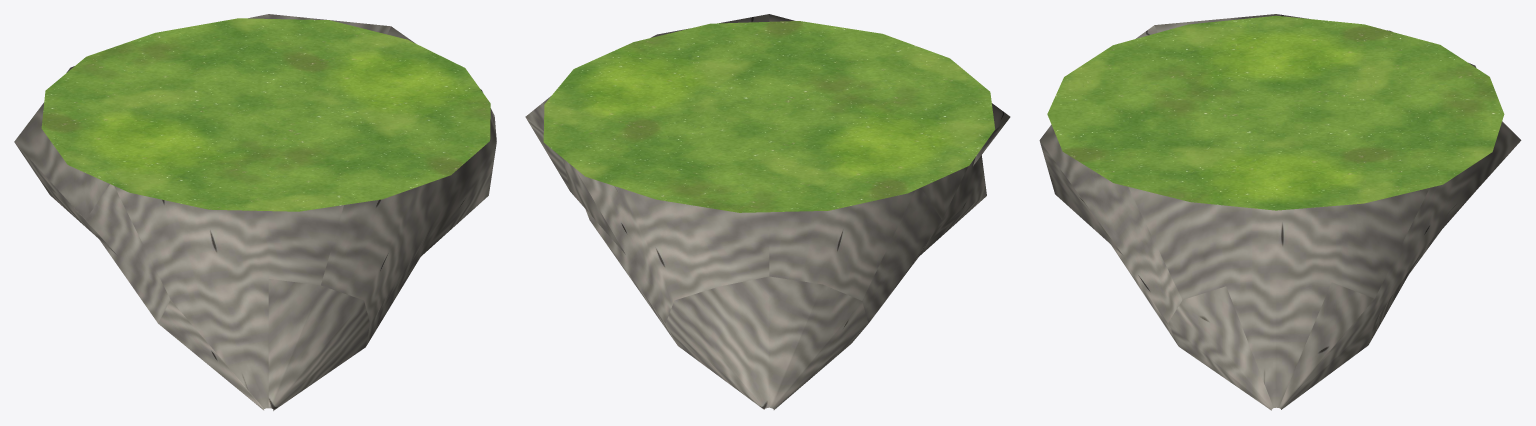
File: stepping_stone.glb
3 renders of one model, left to right at view 1: azimuth 30°, elevation 25°; view 2: azimuth 150°, elevation 25°; view 3: azimuth 270°, elevation 25°, orthographic.
Parts seen in each view (by area): view 1: Top, Rock; view 2: Top, Rock; view 3: Top, Rock.
Part boxes in pixels (bbox=[...]): Top: bbox=[41, 18, 490, 211]; Rock: bbox=[14, 14, 496, 410]; Top: bbox=[543, 21, 995, 212]; Rock: bbox=[525, 14, 1010, 409]; Top: bbox=[1047, 15, 1504, 210]; Rock: bbox=[1039, 14, 1521, 410].
Size of what is drawn, in the model's own units: 5.22 by 3.4 by 5.02.
2 materials, 2 textured.
